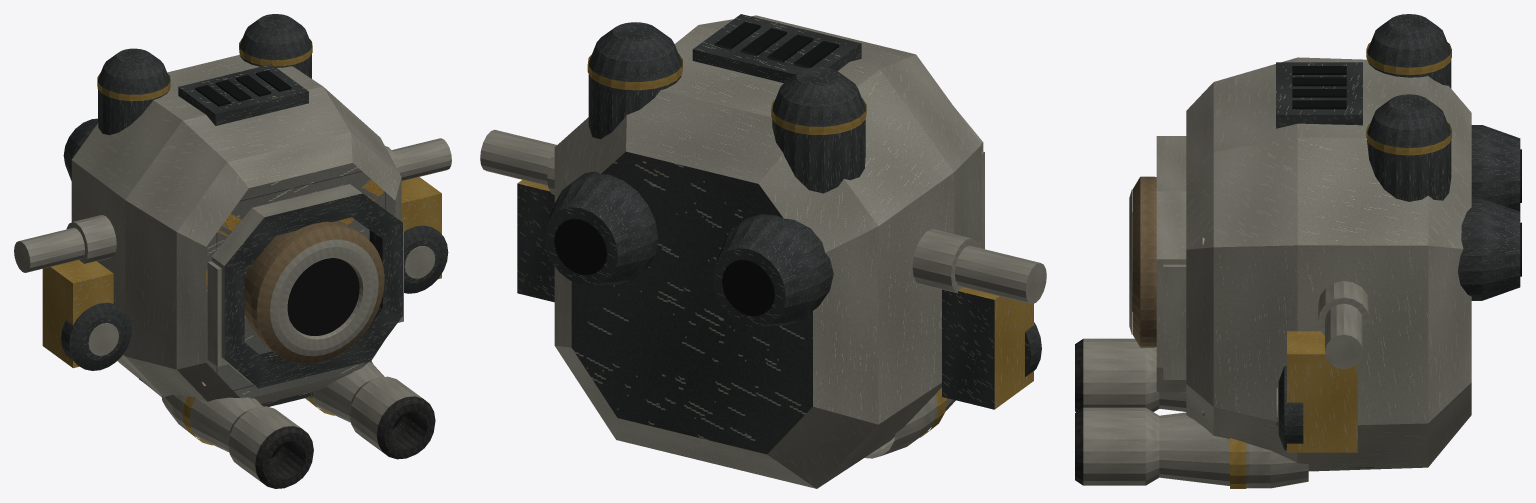
The model's file is TwinShieldHull.obj.
The picture shows the model from 3 angles, left to right: view 1: azimuth 30°, elevation 25°; view 2: azimuth 150°, elevation 25°; view 3: azimuth 270°, elevation 25°; orthographic projection. The views are drawn at different scales.
Visible parts, largest first — view 1: TwinShieldHull; view 2: TwinShieldHull; view 3: TwinShieldHull.
Boxes of the visible parts, <box> form: TwinShieldHull: <box>14,14,451,488</box>; TwinShieldHull: <box>480,14,1046,488</box>; TwinShieldHull: <box>1075,14,1521,488</box>.
Bounding box in the file's own units: 2.08 × 1.58 × 1.64.
1 material, 1 textured.
